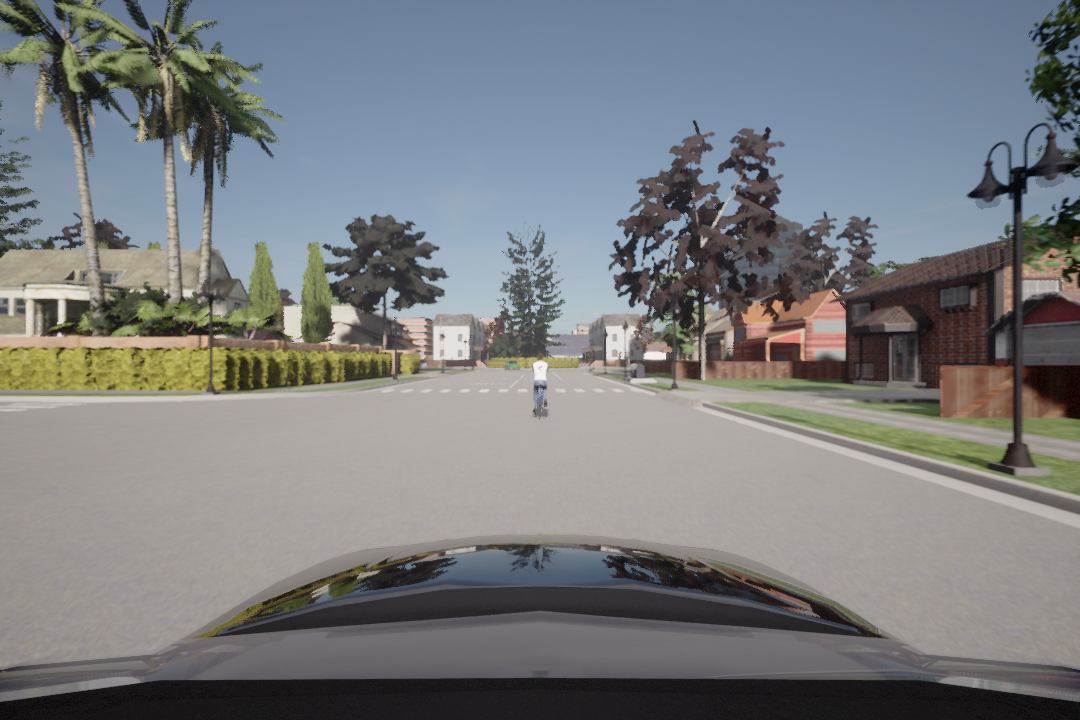walkside: (376, 384, 648, 396)
